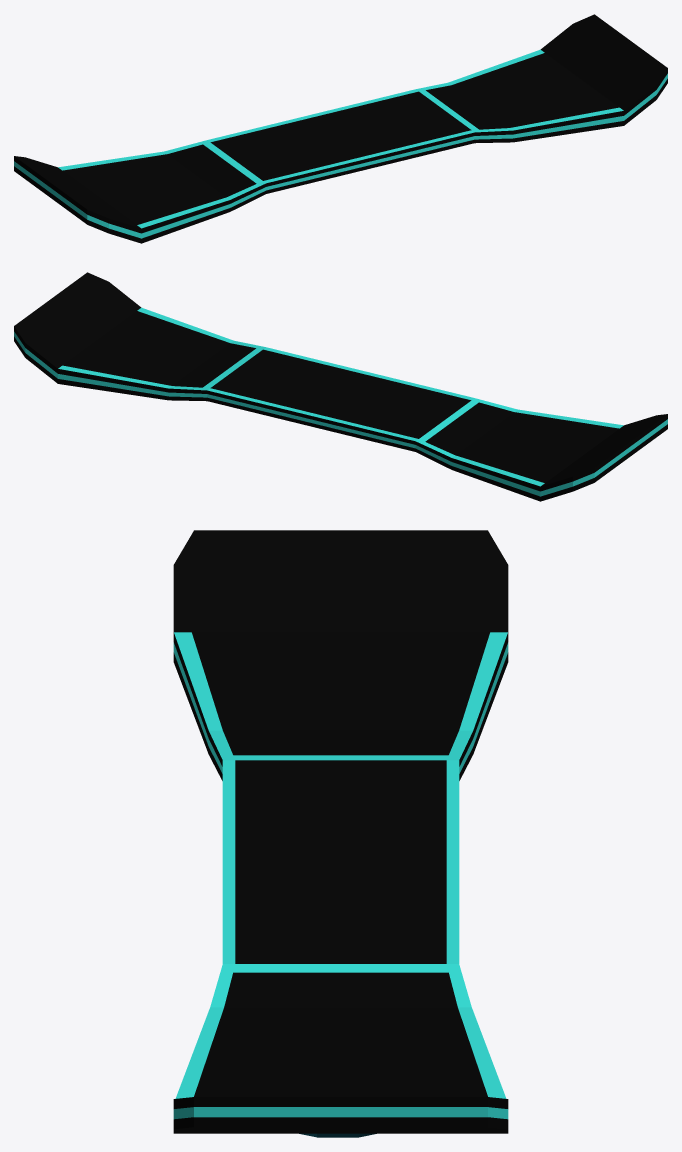
File: Hoverboard.glb
3 views of the same model, one above another, from view 1: azimuth 30°, elevation 25°; view 2: azimuth 150°, elevation 25°; view 3: azimuth 270°, elevation 25° (orthographic). The views are drawn at different scales.
Visible parts, largest first — view 1: Cube; view 2: Cube; view 3: Cube.
Part boxes in pixels (x1,y1,x2,y2): Cube: [14, 14, 667, 243]; Cube: [14, 272, 667, 501]; Cube: [173, 530, 508, 1137].
Bounding box in the file's own units: 6.01 × 0.4815 × 1.5.
